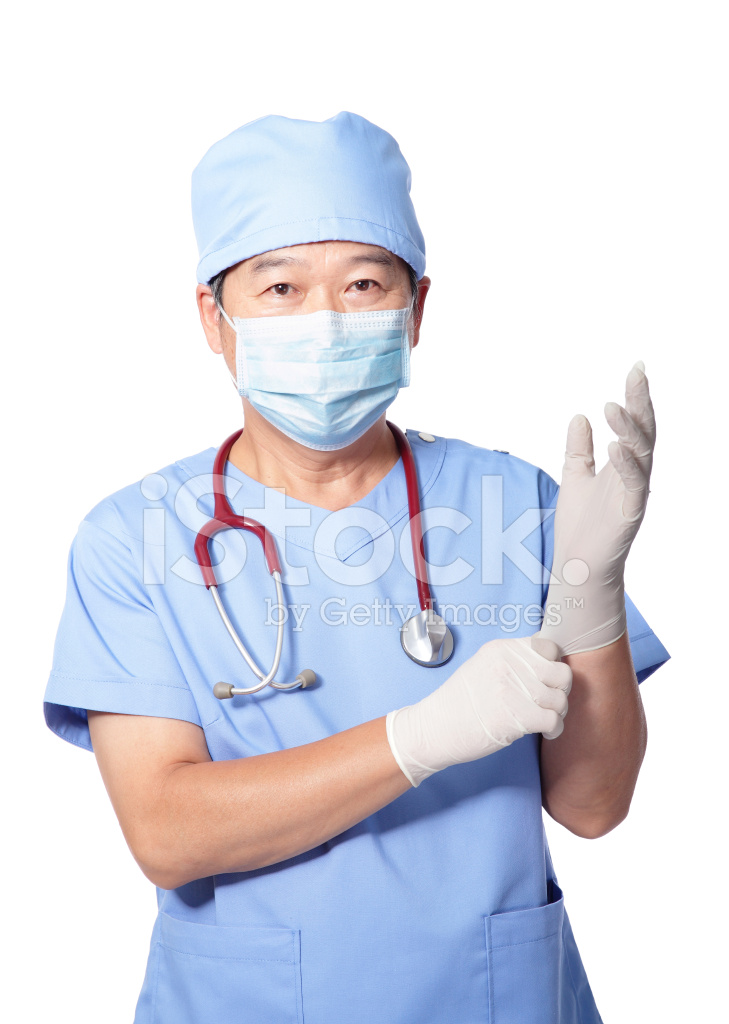mask: (224, 310, 416, 454)
